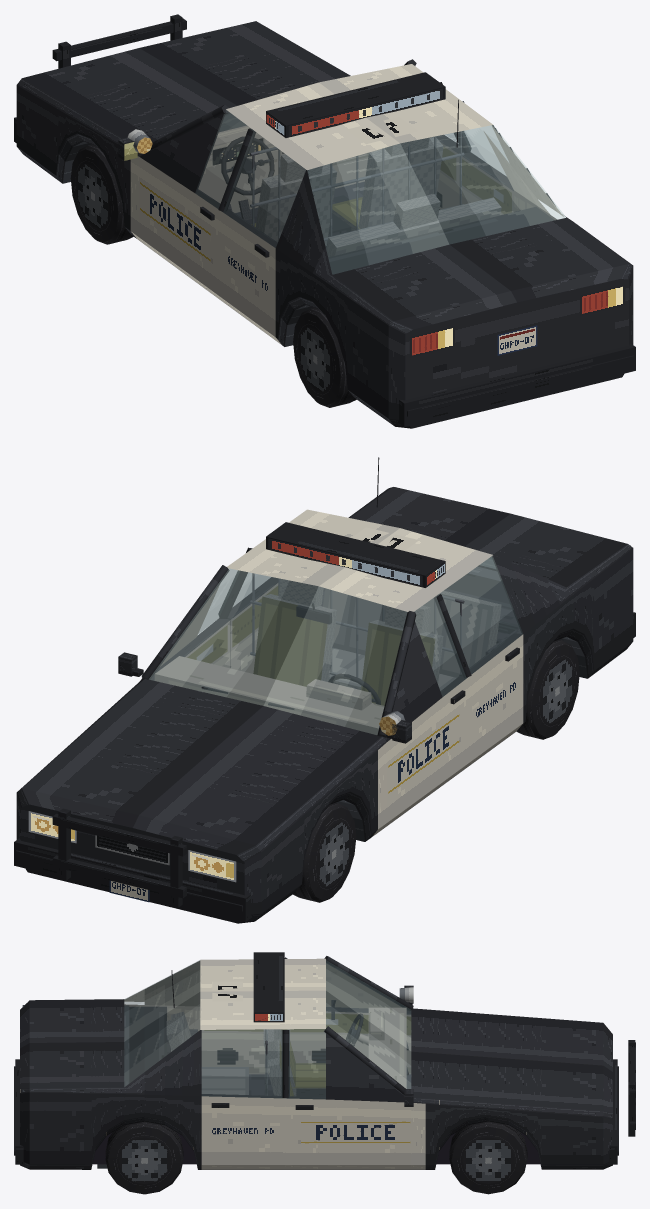
The model's file is VEH_PoliceCruiser.glb.
The picture shows the model from 3 angles, top to bottom: view 1: azimuth 30°, elevation 25°; view 2: azimuth 150°, elevation 25°; view 3: azimuth 270°, elevation 25°; orthographic projection. The views are drawn at different scales.
Visible parts, largest first — view 1: Body, Hood, Trunk, Door_FL, Door_RL, Wheel_RL, Wheel_FL, Door_RR, Door_FR, SteeringWheel; view 2: Body, Hood, Door_FL, Trunk, Door_RL, Wheel_FL, Wheel_RL, Door_FR, Door_RR; view 3: Body, Hood, Door_FR, Door_RR, Trunk, Wheel_RR, Wheel_FR, Door_FL, Door_RL.
Part boxes in pixels (x1,y1,x2,y2): Body: [14, 14, 635, 428]; Hood: [22, 21, 350, 142]; Trunk: [332, 217, 627, 320]; Door_FL: [118, 110, 251, 304]; Door_RL: [221, 129, 305, 344]; Wheel_RL: [293, 308, 356, 407]; Wheel_FL: [70, 144, 133, 244]; Door_RR: [459, 126, 513, 214]; Door_FR: [430, 133, 462, 209]; SteeringWheel: [221, 136, 274, 195]; Body: [14, 457, 635, 923]; Hood: [22, 679, 381, 845]; Door_FL: [371, 595, 468, 837]; Trunk: [350, 487, 627, 587]; Door_RL: [438, 556, 523, 770]; Wheel_FL: [293, 803, 356, 902]; Wheel_RL: [516, 639, 579, 739]; Door_FR: [118, 569, 239, 689]; Door_RR: [227, 573, 278, 673]; Body: [14, 952, 635, 1169]; Hood: [411, 1008, 603, 1110]; Door_FR: [285, 1029, 425, 1169]; Door_RR: [201, 1029, 285, 1169]; Trunk: [29, 999, 124, 1088]; Wheel_RR: [105, 1121, 183, 1194]; Wheel_FR: [449, 1121, 527, 1194]; Door_FL: [287, 963, 413, 1074]; Door_RL: [201, 1029, 268, 1074].
Size of what is drawn, in the model's own units: 2.16 by 1.82 by 5.25.
Materials: 3 (3 with a texture image).
